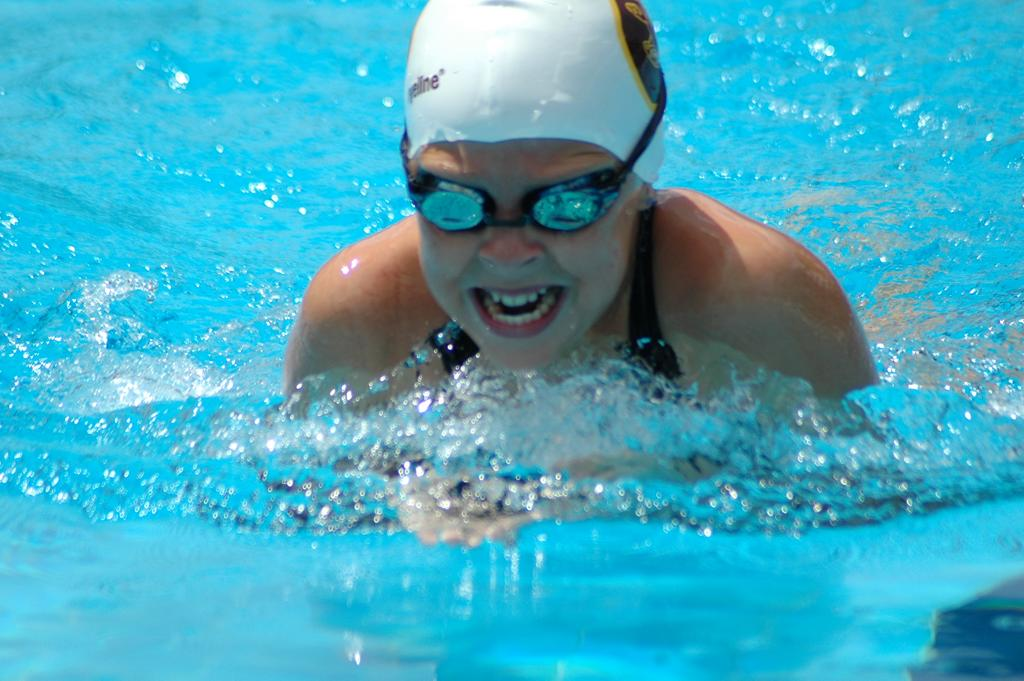face: (416, 112, 628, 374)
